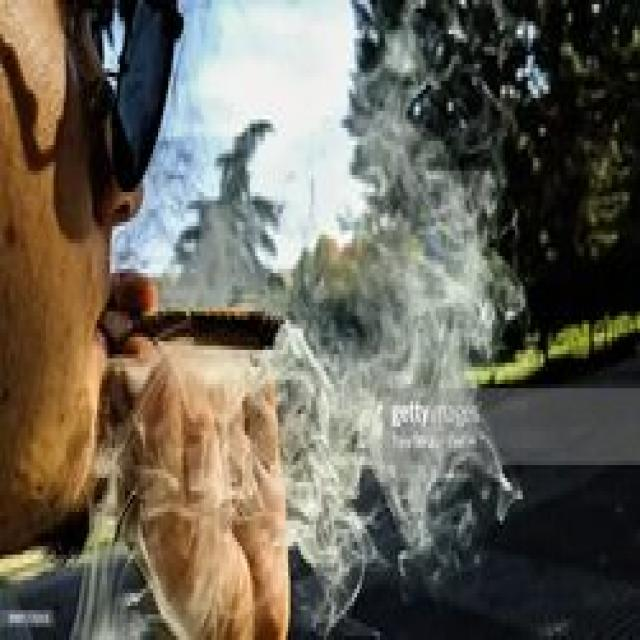smoke: (115, 294, 303, 363)
